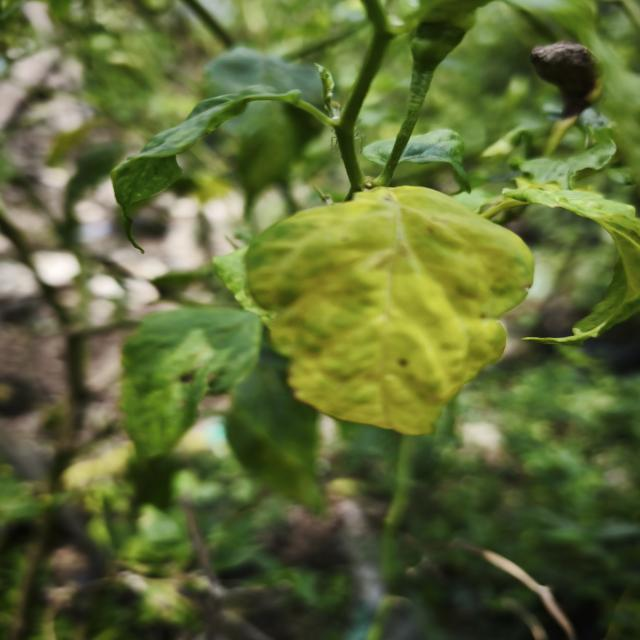Virus Kuning: (242, 184, 536, 436)
